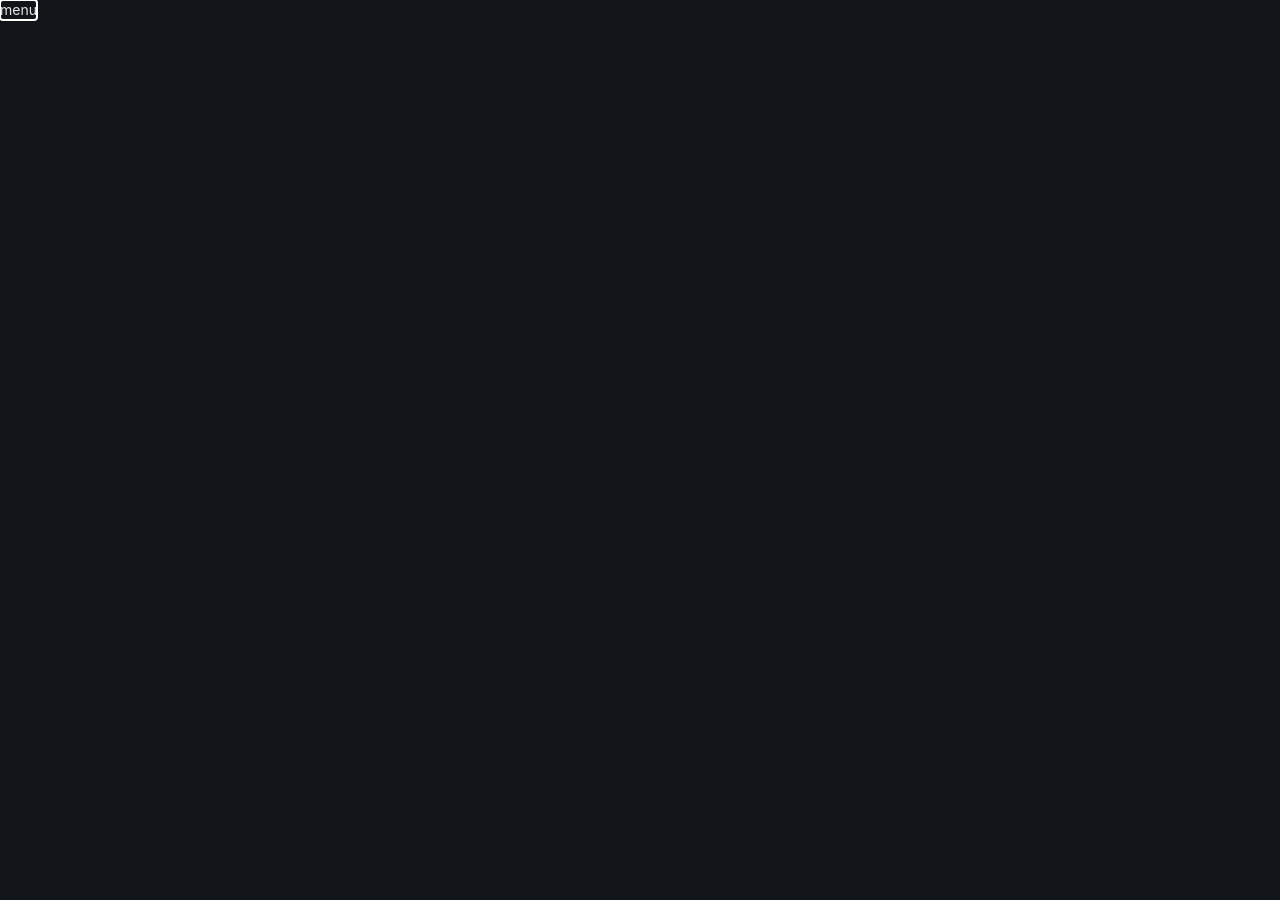
Test: copiar para… lists the workspace, local with its branch, its other activities with their branch, then nova atividade…; the source and other workspaces stay out;
Press Enter
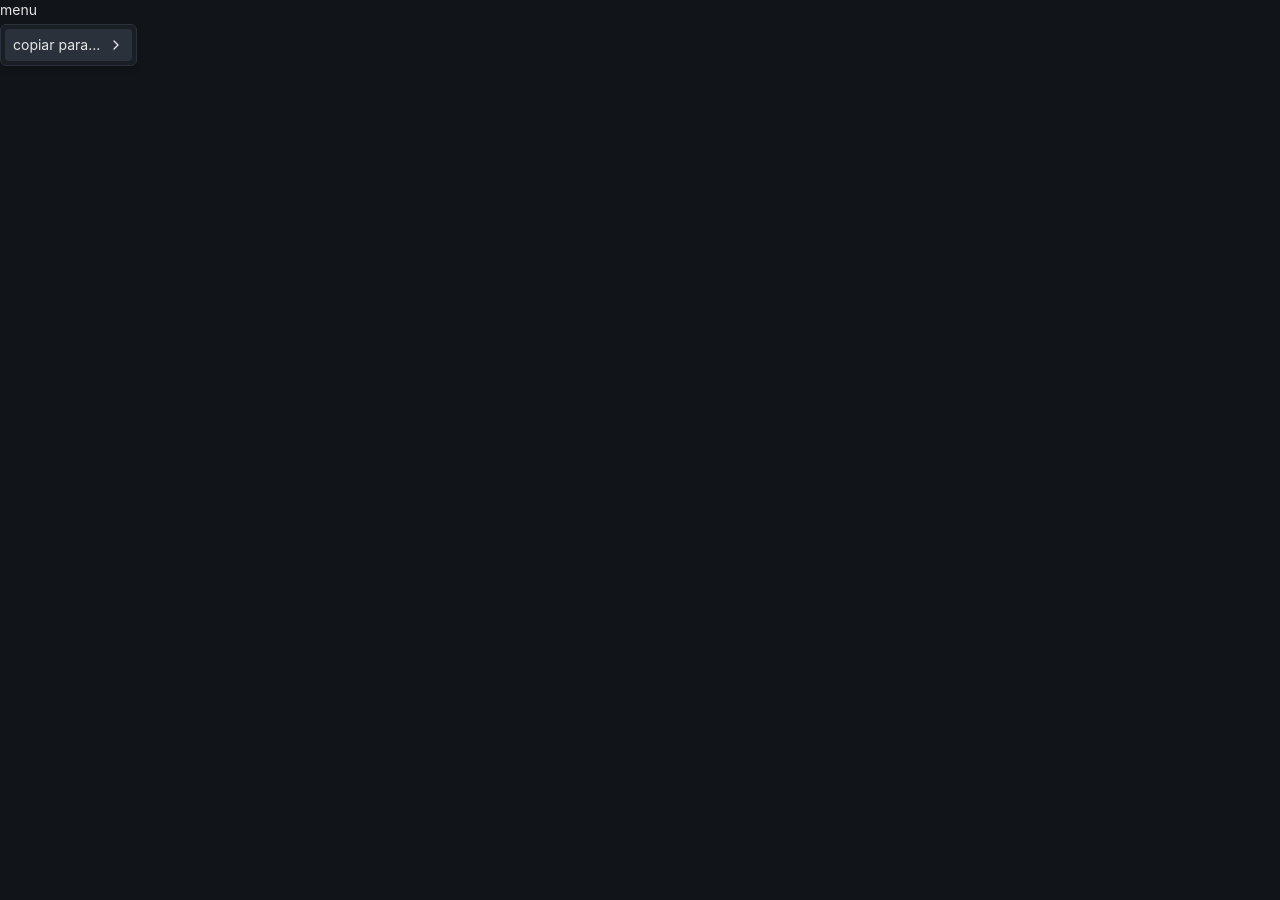
Press Arrowright
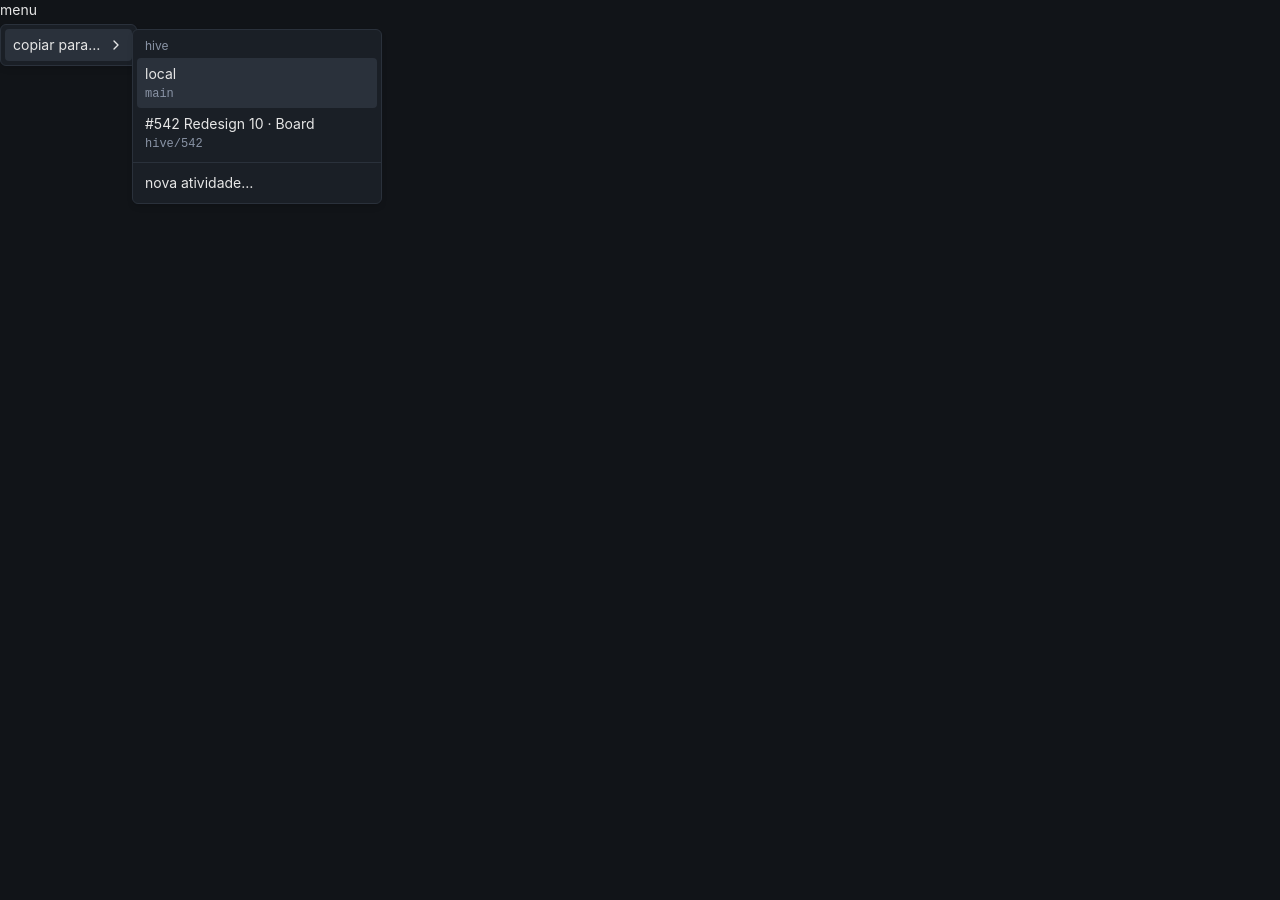
Expected: the text "hive" is shown, [145, 38, 168, 53]
Expected: the menu items read "localmain", "#542 Redesign 10 · Boardhive/542", "nova atividade…", in this order
Click the menu item "local main" at [257, 83], box [137, 58, 377, 108]
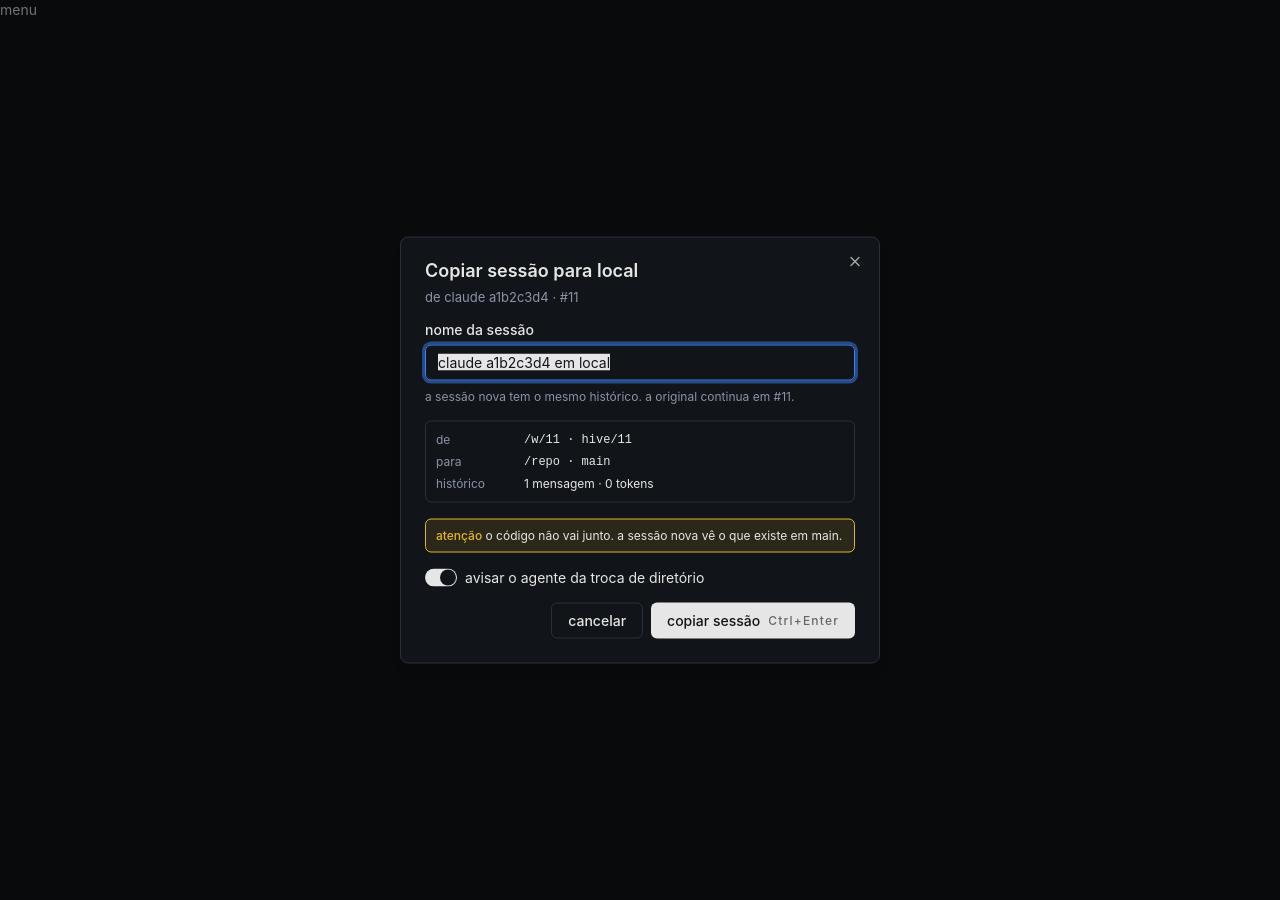
Expected: the dialog "Copiar sessão para local" is shown, [400, 236, 880, 664]
